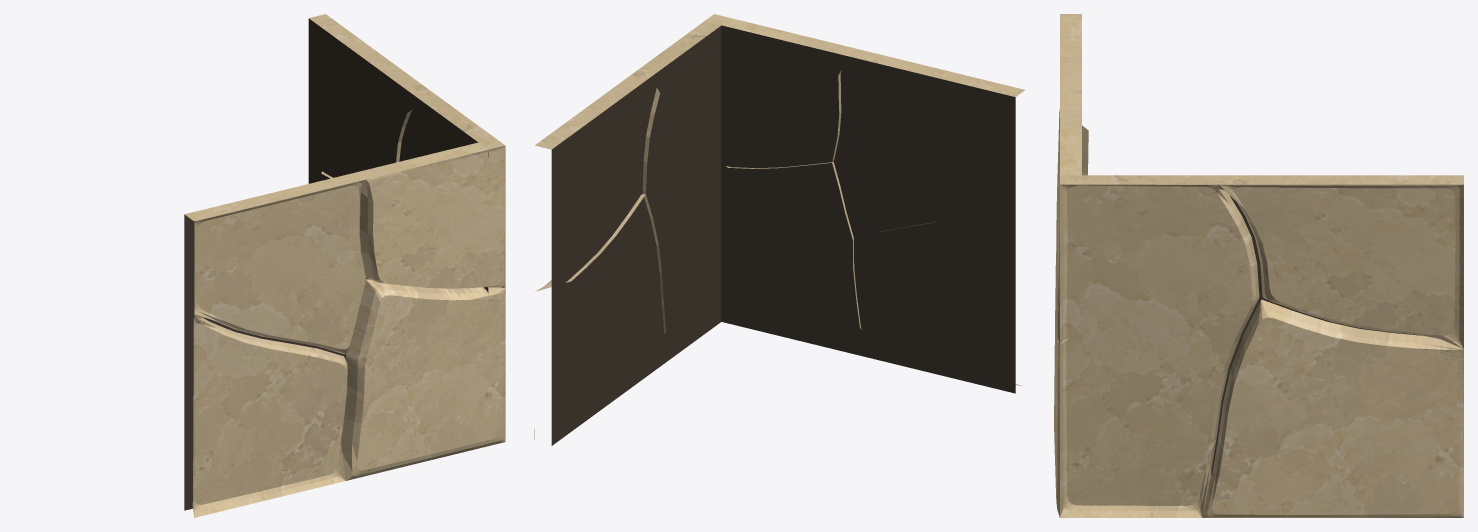
File: ground_corner_10.glb
3 renders of one model, left to right at view 1: azimuth 30°, elevation 25°; view 2: azimuth 150°, elevation 25°; view 3: azimuth 270°, elevation 25°, orthographic. The views are drawn at different scales.
Visible parts, largest first — view 1: GroundCorner10_Body; view 2: GroundCorner10_Body; view 3: GroundCorner10_Body.
Part boxes in pixels (x1,y1,x2,y2): GroundCorner10_Body: (184,14,505,517); GroundCorner10_Body: (534,14,1024,445); GroundCorner10_Body: (1054,14,1463,517).
Bounding box in the file's own units: 1.01 × 0.91 × 1.01.
Materials: 9 (8 with a texture image).
